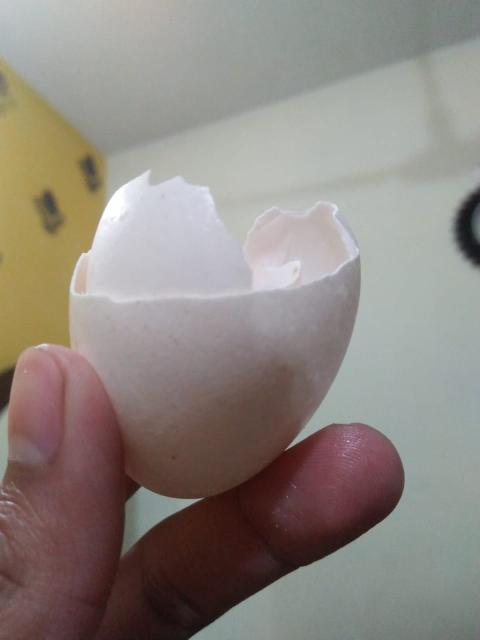Roto: (67, 168, 362, 500)
